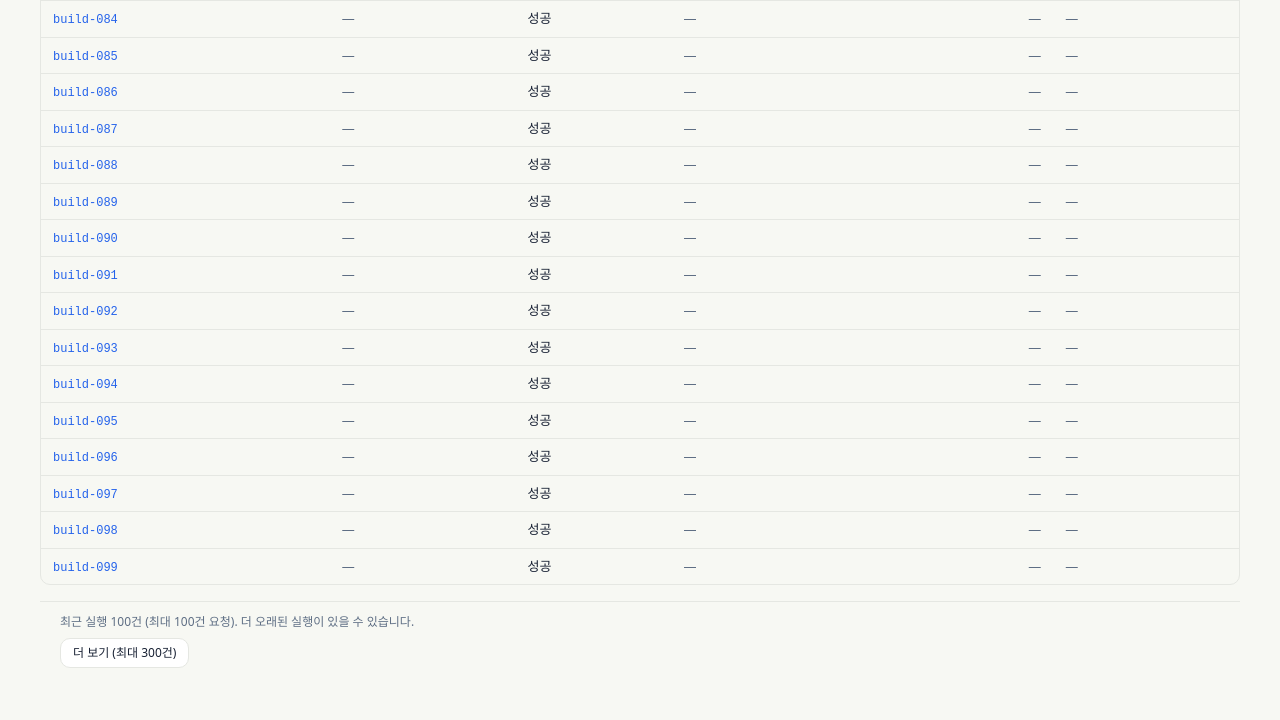
Test case: Refresh history: show more past 100 (#653) › asks for 100 first and 300 after 'show more'
The image size is (1280, 720).
(page scrolled)
Expected: the link "build-099" is shown, x1=53 y1=560 x2=118 y2=574
Click the button "더 보기 (최대 300건)" at (125, 653), box x1=60 y1=638 x2=189 y2=668
(page scrolled)
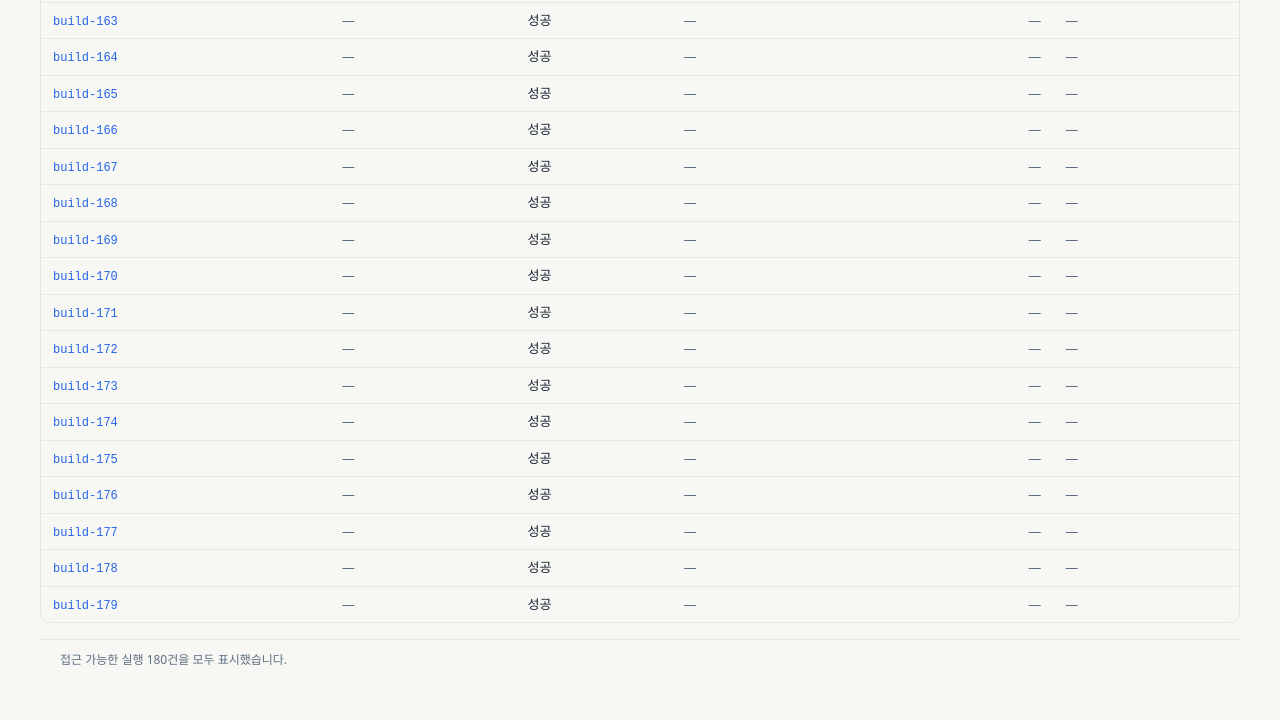
Expected: the link "build-179" is shown, x1=53 y1=598 x2=118 y2=612
Expected: the button "더 보기" is gone
